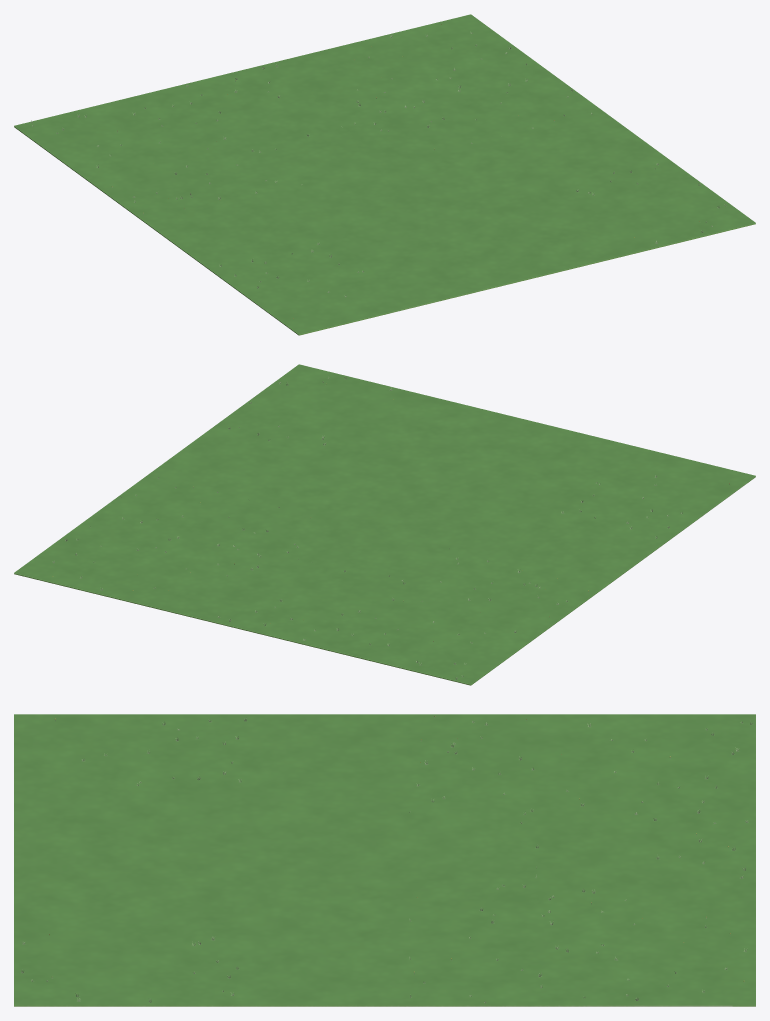
File: ground_grass.glb
3 views of the same model, one above another, from view 1: azimuth 30°, elevation 25°; view 2: azimuth 150°, elevation 25°; view 3: azimuth 270°, elevation 25° (orthographic). The views are drawn at different scales.
Parts seen in each view (by area): view 1: SM_GroundGrass; view 2: SM_GroundGrass; view 3: SM_GroundGrass.
Part boxes in pixels (<box>): SM_GroundGrass: <box>14,14,755,335</box>; SM_GroundGrass: <box>14,364,755,685</box>; SM_GroundGrass: <box>14,714,755,1006</box>.
Size of the model in its own units: 50 by 0.4793 by 54.
1 material, 1 textured.
